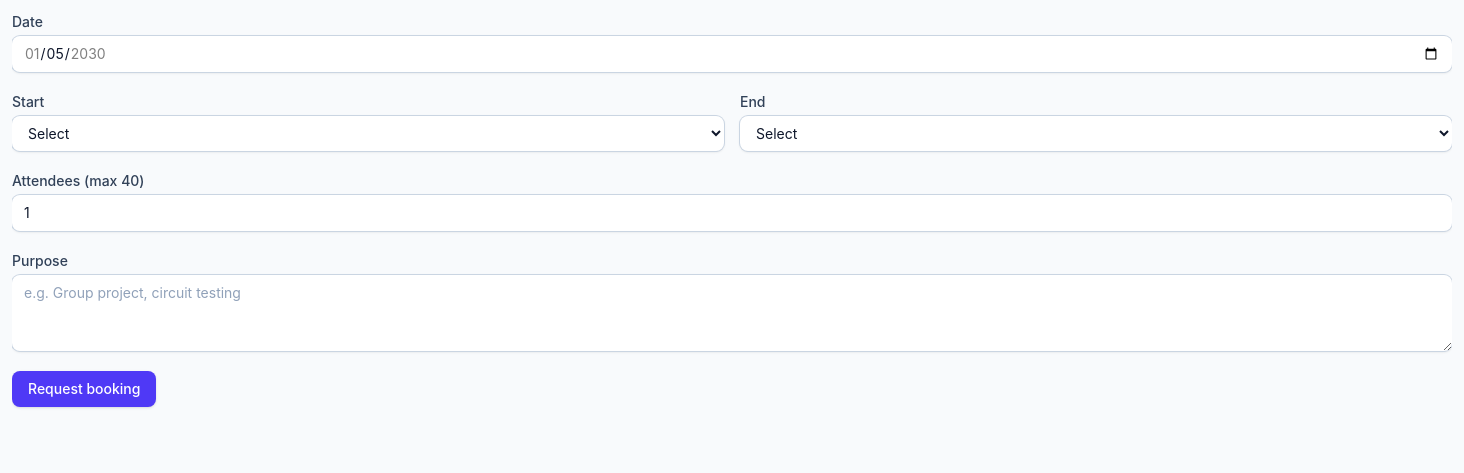
Test: BookingForm › shows validation messages and does not submit an empty form
Step 1. Click the button "Request booking" → point(84, 389), box [12, 371, 156, 407]
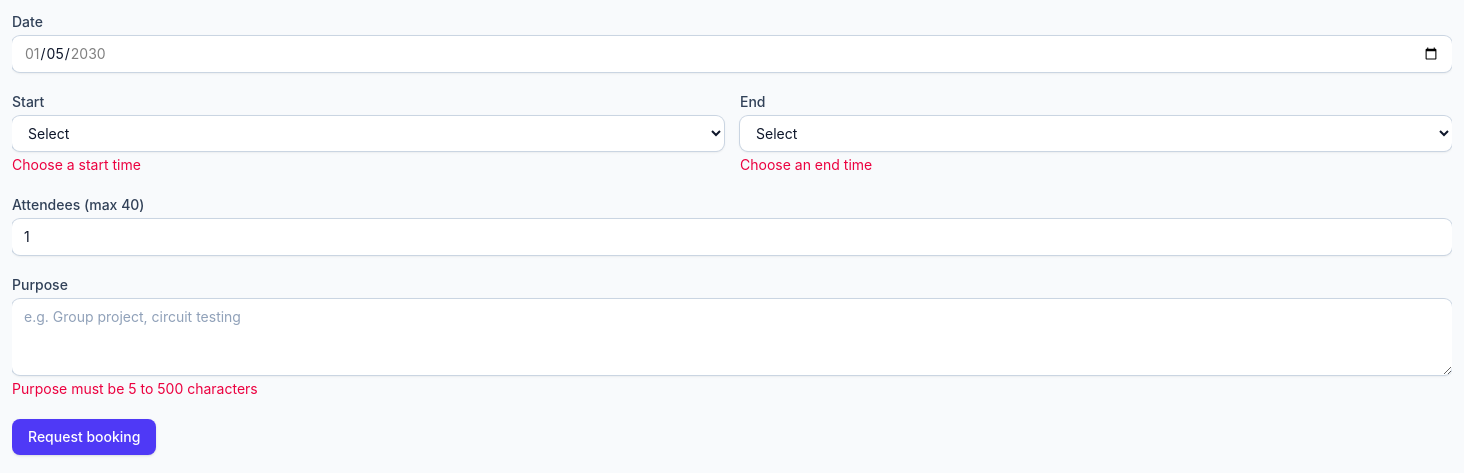
Check: the text "Choose a start time" is shown, box [12, 156, 141, 173]
Check: the text "Choose an end time" is shown, box [740, 156, 872, 173]
Check: the text "Purpose must be 5 to 500 characters" is shown, box [12, 380, 258, 397]
